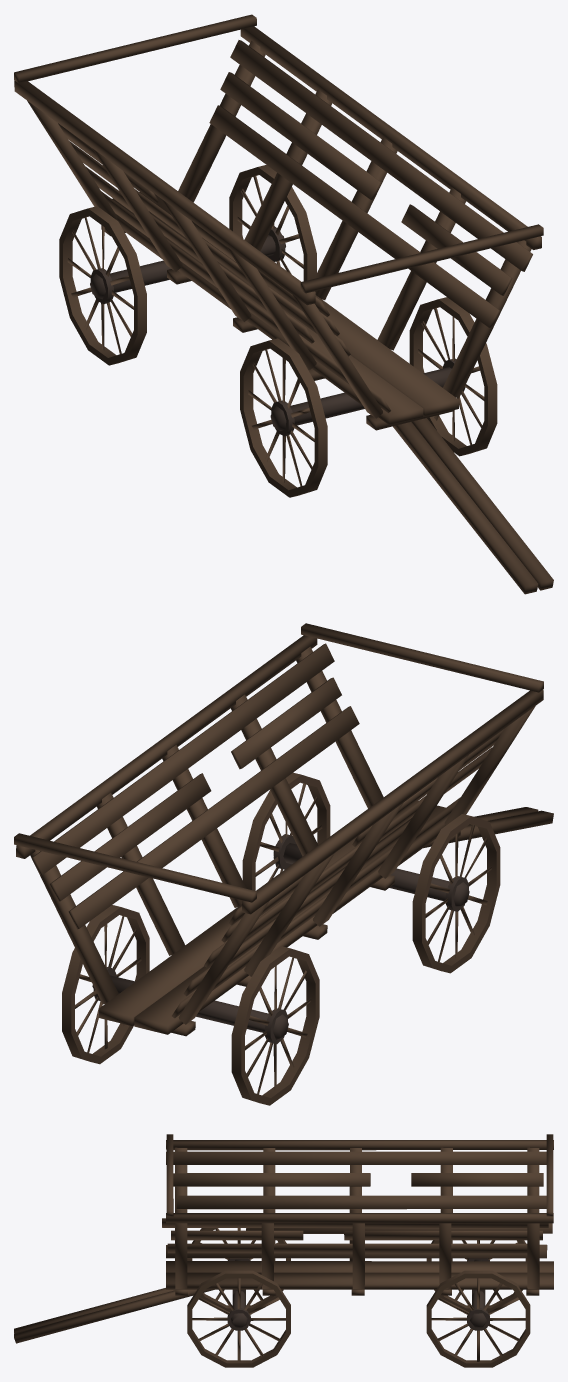
Rendered from farm_wagon.glb.
3 views of the same model, one above another, from view 1: azimuth 30°, elevation 25°; view 2: azimuth 150°, elevation 25°; view 3: azimuth 270°, elevation 25° (orthographic). The views are drawn at different scales.
Visible parts, largest first — view 1: farm_wagon; view 2: farm_wagon; view 3: farm_wagon.
Boxes of the visible parts, bbox=[...] form: farm_wagon: bbox=[14, 14, 553, 594]; farm_wagon: bbox=[14, 623, 553, 1105]; farm_wagon: bbox=[14, 1134, 553, 1367].
Bounding box in the file's own units: 1.5 × 1.51 × 4.44.
Materials: 1 (1 with a texture image).
